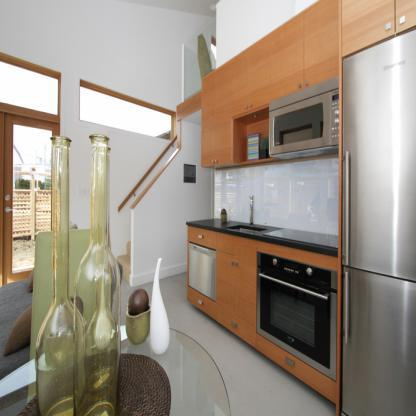door: (4, 113, 56, 282)
lever: (6, 207, 16, 212)
